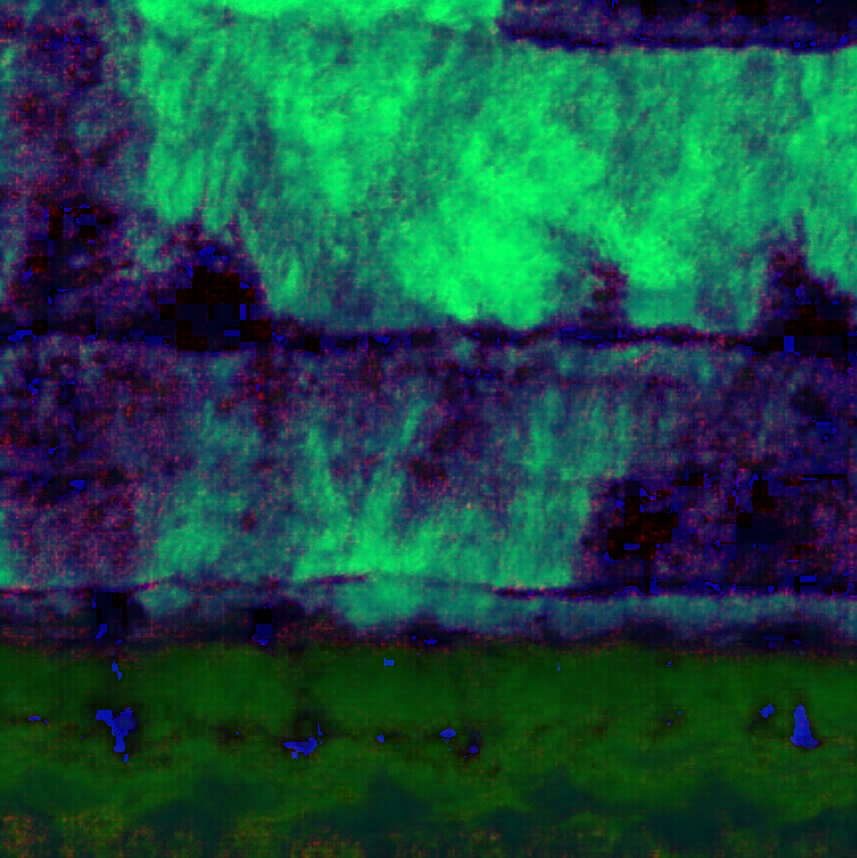rip_current: (254, 194, 684, 602)
